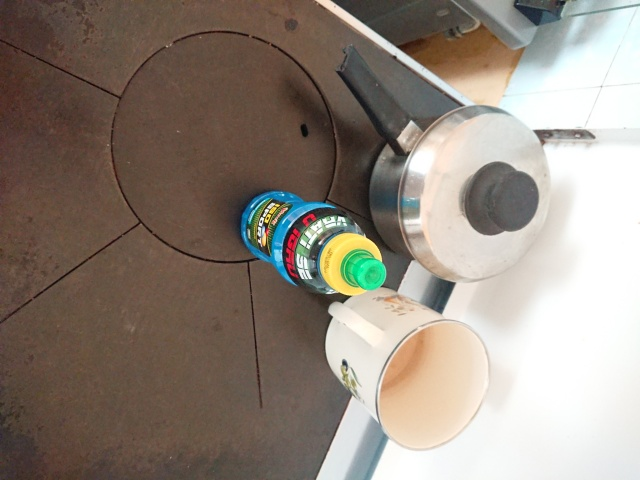Vindi Iso Sport Forest Strawberries 500mL: (237, 187, 388, 297)
